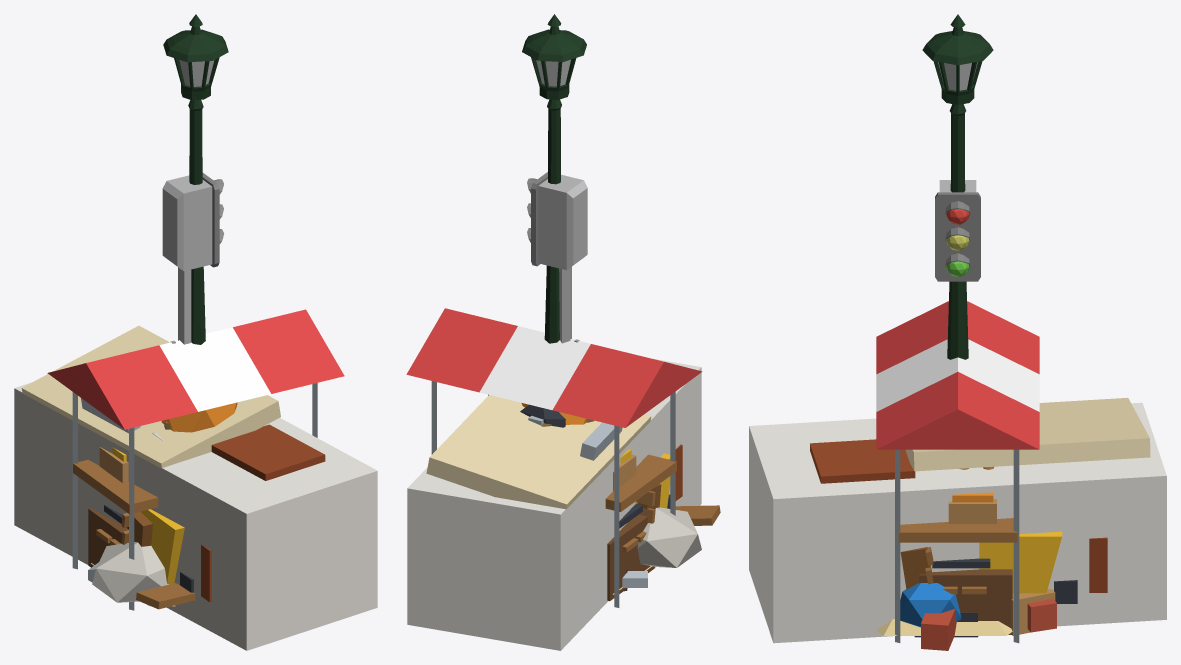
File: props.glb
3 views of the same model, side by side, from view 1: azimuth 30°, elevation 25°; view 2: azimuth 150°, elevation 25°; view 3: azimuth 270°, elevation 25° (orthographic). The views are drawn at different scales.
Visible parts, largest first — view 1: fridge, stall, tlight, lamp, rubble, sofa, dumpster, booth, wreck, bench; view 2: fridge, stall, tlight, lamp, rubble, sofa, booth, bench; view 3: fridge, stall, lamp, tlight, sofa, rubble, dumpster, junk, wreck, bench.
Part boxes in pixels (x1=…): fridge: x1=14, y1=325, x2=377, y2=650; stall: x1=47, y1=309, x2=344, y2=610; tlight: x1=162, y1=173, x2=223, y2=344; lamp: x1=163, y1=14, x2=228, y2=344; rubble: x1=91, y1=542, x2=195, y2=609; sofa: x1=88, y1=508, x2=152, y2=567; dumpster: x1=141, y1=509, x2=184, y2=584; booth: x1=161, y1=402, x2=237, y2=432; wreck: x1=180, y1=545, x2=211, y2=602; bench: x1=96, y1=505, x2=128, y2=545; fridge: x1=407, y1=358, x2=701, y2=650; stall: x1=406, y1=308, x2=702, y2=607; tlight: x1=527, y1=172, x2=587, y2=343; lamp: x1=522, y1=14, x2=586, y2=343; rubble: x1=613, y1=505, x2=720, y2=594; sofa: x1=607, y1=484, x2=661, y2=601; booth: x1=520, y1=403, x2=587, y2=427; bench: x1=619, y1=491, x2=655, y2=552; fridge: x1=749, y1=397, x2=1166, y2=643; stall: x1=876, y1=301, x2=1039, y2=643; lamp: x1=922, y1=14, x2=993, y2=359; tlight: x1=935, y1=180, x2=980, y2=281; sofa: x1=900, y1=547, x2=1012, y2=634; rubble: x1=876, y1=598, x2=1056, y2=650; dumpster: x1=979, y1=531, x2=1062, y2=593; junk: x1=900, y1=583, x2=1055, y2=635; wreck: x1=1054, y1=537, x2=1107, y2=603; bench: x1=925, y1=547, x2=990, y2=594.
Bounding box in the file's own units: 4.04 × 8.74 × 5.69.
